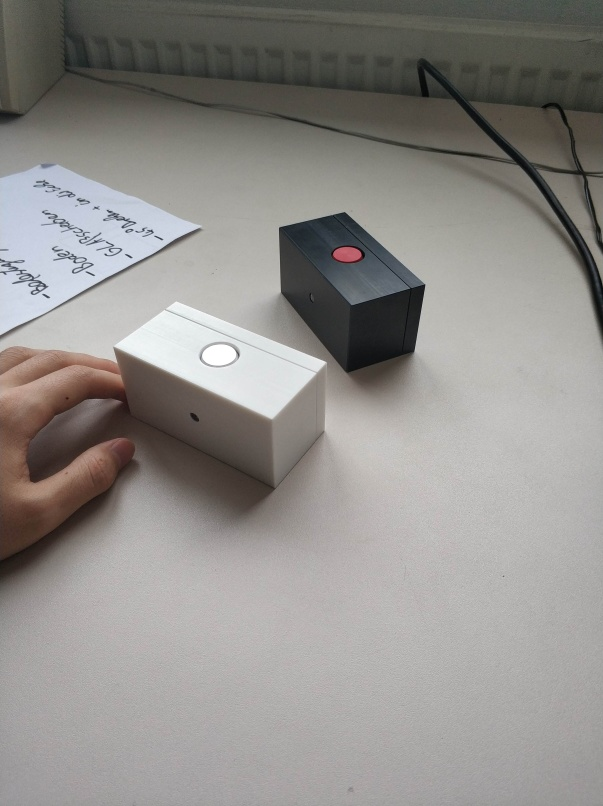black+black+red: (275, 209, 428, 378)
white+white+silver: (108, 301, 330, 492)
